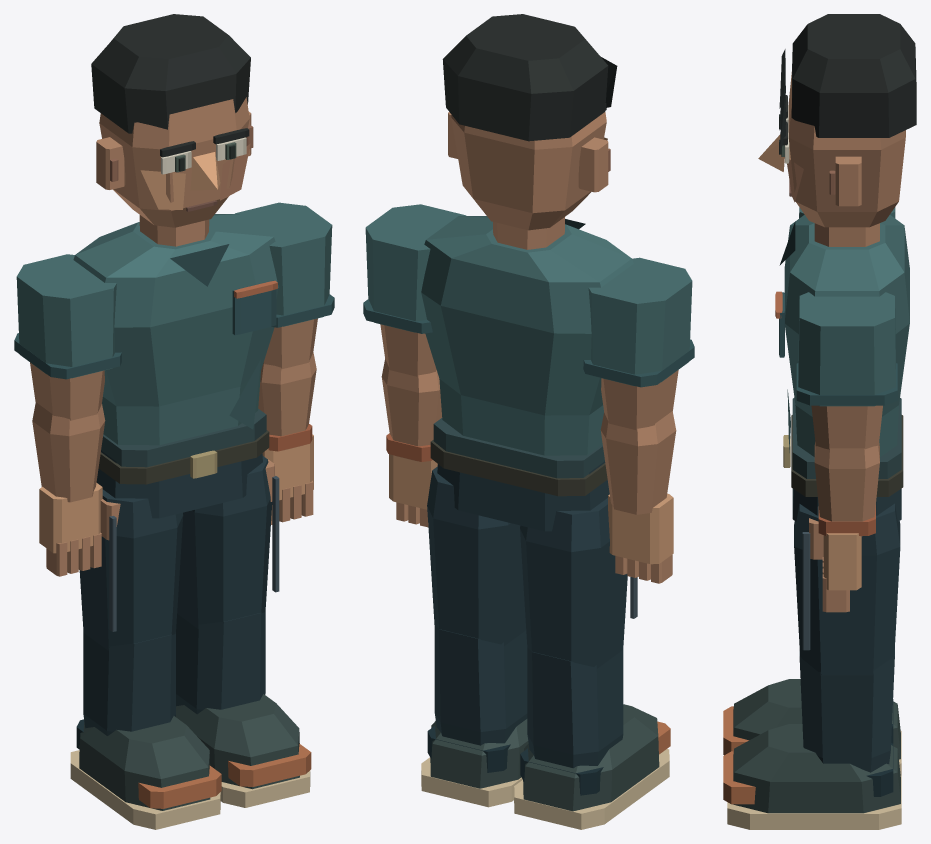
Rendered from human.glb.
The picture shows the model from 3 angles, left to right: view 1: azimuth 30°, elevation 25°; view 2: azimuth 150°, elevation 25°; view 3: azimuth 270°, elevation 25°; orthographic projection. The views are drawn at different scales.
Visible parts, largest first — view 1: Tshirt_cut, Cropped_hair, Trouser_thigh_R, Trouser_thigh_L, Sleeve_L, Young_face, Trouser_calf_L, Trouser_calf_R, Sneaker_L, Sleeve_R, Sneaker_R, Forearm_L (+27 smaller); view 2: Tshirt_cut, Cropped_hair, Trouser_thigh_L, Trouser_thigh_R, Young_face, Sleeve_L, Trouser_calf_L, Trouser_calf_R, Sleeve_R, Sneaker_L, Forearm_L, Hips (+17 smaller); view 3: Cropped_hair, Tshirt_cut, Trouser_thigh_R, Sleeve_R, Sneaker_R, Trouser_calf_R, Young_face, Forearm_R, Sneaker_L, Sole.001, Upper_arm_R, Palm_R (+14 smaller).
Part boxes in pixels (x1,y1,x2,y2): Tshirt_cut: (73, 214, 278, 445); Cropped_hair: (91, 14, 250, 133); Trouser_thigh_R: (177, 456, 272, 628); Trouser_thigh_L: (79, 489, 183, 650); Sleeve_L: (16, 254, 116, 378); Young_face: (99, 97, 249, 227); Trouser_calf_L: (83, 632, 175, 735); Trouser_calf_R: (176, 610, 265, 714); Sneaker_L: (79, 716, 210, 810); Sleeve_R: (235, 202, 332, 326); Sneaker_R: (175, 694, 299, 789); Forearm_L: (32, 402, 105, 502); Tshirt_cut: (421, 216, 633, 455); Cropped_hair: (442, 14, 608, 141); Trouser_thigh_L: (520, 498, 627, 668); Trouser_thigh_R: (427, 466, 526, 645); Young_face: (451, 112, 606, 230); Sleeve_L: (588, 257, 692, 386); Trouser_calf_L: (527, 647, 623, 768); Trouser_calf_R: (434, 625, 527, 745); Sleeve_R: (365, 204, 466, 332); Sneaker_L: (523, 704, 659, 811); Forearm_L: (600, 411, 676, 514); Hips: (437, 461, 609, 531); Cropped_hair: (791, 14, 916, 137); Tshirt_cut: (784, 215, 909, 456); Trouser_thigh_R: (794, 503, 900, 675); Sleeve_R: (798, 292, 895, 406); Sneaker_R: (733, 724, 900, 813); Trouser_calf_R: (799, 649, 894, 772); Young_face: (788, 72, 905, 227); Forearm_R: (814, 442, 879, 536); Sneaker_L: (733, 679, 900, 759); Sole.001: (727, 775, 901, 829); Upper_arm_R: (811, 405, 882, 449); Palm_R: (823, 533, 861, 590).
Bounding box in the file's own units: 1.26 × 3.03 × 0.71.
